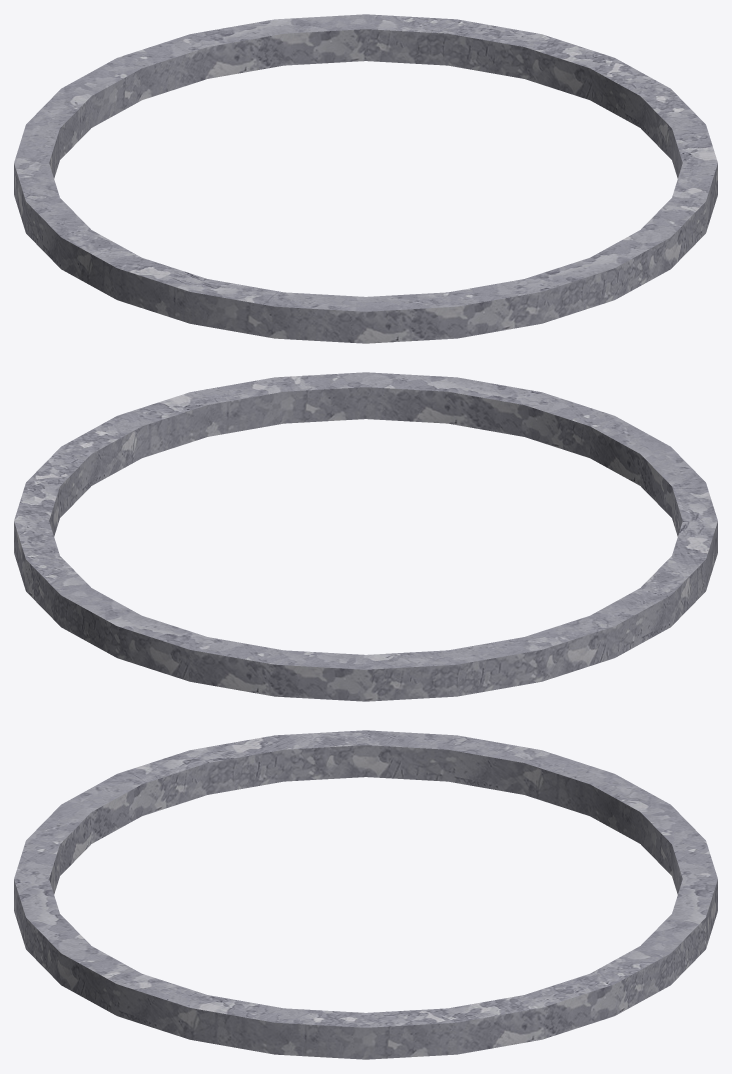
File: SpaceRing.dae
The picture shows the model from 3 angles, top to bottom: view 1: azimuth 30°, elevation 25°; view 2: azimuth 150°, elevation 25°; view 3: azimuth 270°, elevation 25°; orthographic projection.
Visible parts, largest first — view 1: SketchUp (×2); view 2: SketchUp (×2); view 3: SketchUp (×2).
Part boxes in pixels (x1,y1,x2,y2): SketchUp (×2): (14, 14, 717, 343); SketchUp (×2): (14, 372, 717, 701); SketchUp (×2): (14, 730, 717, 1059).
Size of the model in its own units: 78.74 by 78.74 by 3.94.
